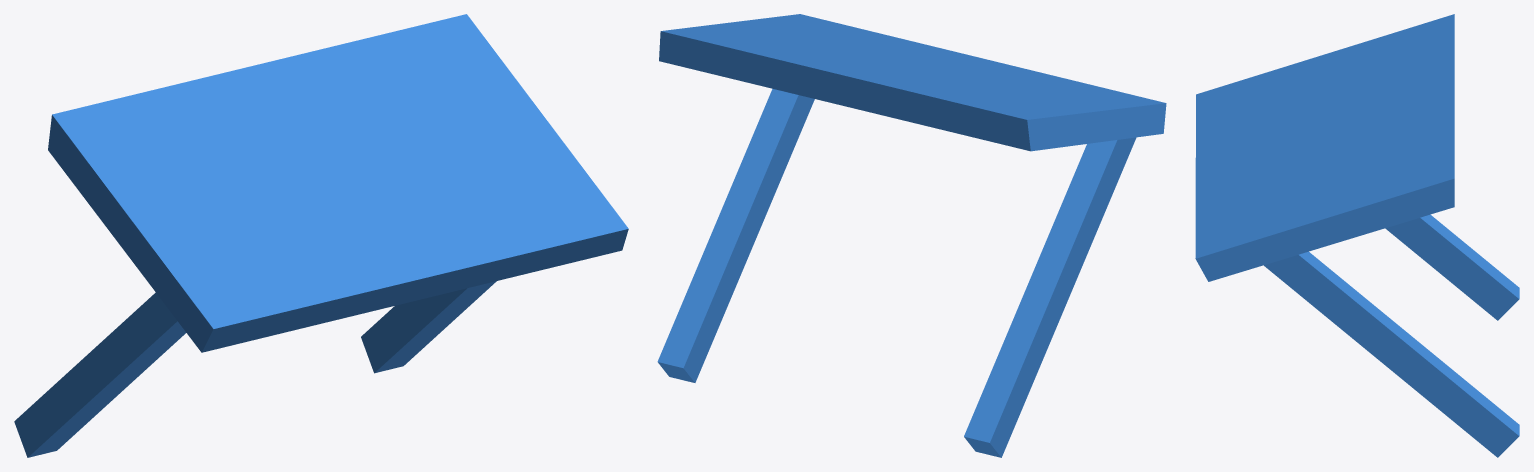
File: Collision_Window_Roof_Wide.fbx
3 views of the same model, side by side, from view 1: azimuth 30°, elevation 25°; view 2: azimuth 150°, elevation 25°; view 3: azimuth 270°, elevation 25° (orthographic). The views are drawn at different scales.
Parts seen in each view (by area): view 1: UCX_Window_Roof_Wide_1; view 2: UCX_Window_Roof_Wide_1; view 3: UCX_Window_Roof_Wide_1.
Part boxes in pixels (bbox=[...]): UCX_Window_Roof_Wide_1: bbox=[14, 14, 628, 457]; UCX_Window_Roof_Wide_1: bbox=[657, 14, 1166, 457]; UCX_Window_Roof_Wide_1: bbox=[1195, 14, 1519, 457].
Bounding box in the file's own units: 144 × 118 × 118.
